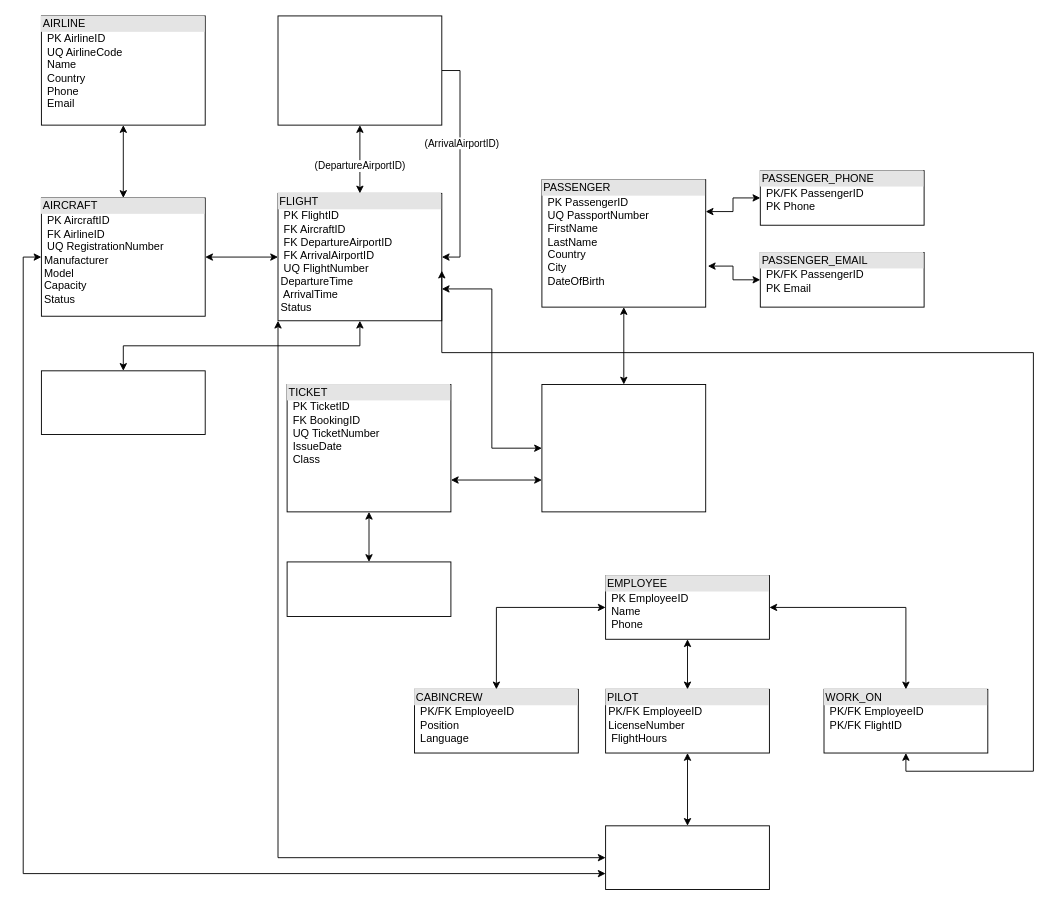
Image size: 1058x905. Some labels were removed from this diagram. Here are the shapes that lost their labels. From the top down, the centre of each, then its label:
the point at 359,70: AIRPORT PK AirportID UQ IATA_Code Name City Country
the point at 122,402: SEAT PK/FK FlightID PK SeatNumber Availability
the point at 623,448: BOOKING PK BookingID FK PassengerID FK FlightID BookingDate Status
the point at 368,589: BAGGAGE PK/FK TicketID PK BagNumber
the point at 687,857: ASSIGNED_PILOT PK/FK EmployeeID PK/FK FlightID PK/FK AircraftID
